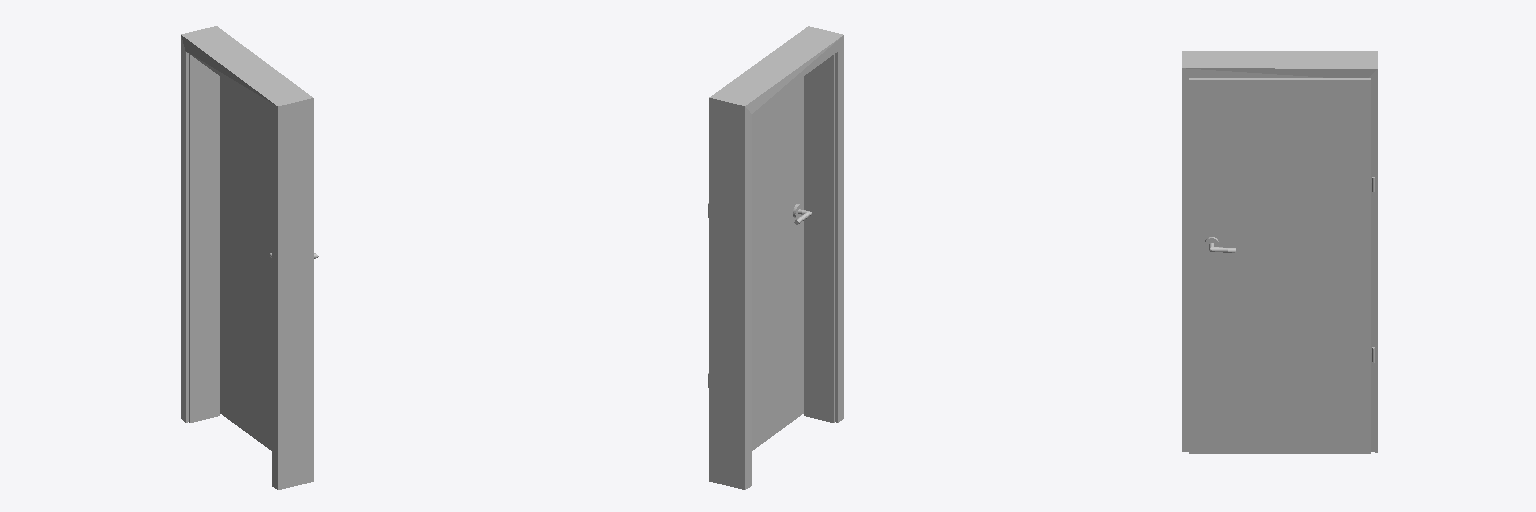
File: door106.obj
The picture shows the model from 3 angles: view 1: azimuth 30°, elevation 25°; view 2: azimuth 150°, elevation 25°; view 3: azimuth 270°, elevation 25°; orthographic projection.
Visible parts, largest first — view 1: Cylinder.005, Cylinder.001; view 2: Cylinder.005, Cylinder.001; view 3: Cylinder.001, Cylinder.005.
Part boxes in pixels (x1,y1,x2,y2): Cylinder.005: (181, 26, 313, 489); Cylinder.001: (220, 77, 271, 450); Cylinder.005: (708, 26, 843, 489); Cylinder.001: (708, 77, 803, 450); Cylinder.001: (1189, 78, 1374, 453); Cylinder.005: (1182, 51, 1377, 452).
Size of the model in its own units: 0.3039 by 2.05 by 0.95.